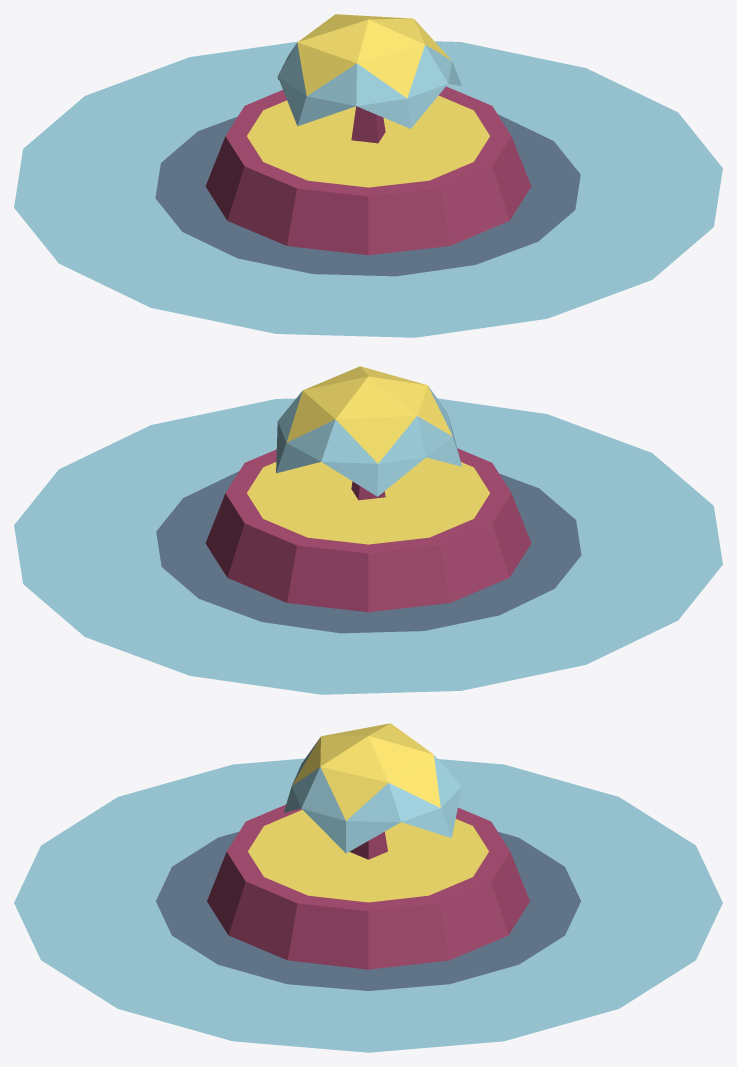
The model's file is Fountain.fbx.
The picture shows the model from 3 angles, top to bottom: view 1: azimuth 30°, elevation 25°; view 2: azimuth 150°, elevation 25°; view 3: azimuth 270°, elevation 25°; orthographic projection.
Parts seen in each view (by area): view 1: Outer Ripple, Base.001, Inner Ripple, Waterspout, Pillar; view 2: Outer Ripple, Base.001, Inner Ripple, Waterspout; view 3: Outer Ripple, Base.001, Inner Ripple, Waterspout, Pillar.
Boxes of the visible parts, x1=… form: Outer Ripple: x1=14, y1=41, x2=722, y2=337; Base.001: x1=205, y1=86, x2=531, y2=255; Inner Ripple: x1=155, y1=114, x2=580, y2=276; Waterspout: x1=277, y1=14, x2=461, y2=128; Pillar: x1=351, y1=106, x2=385, y2=143; Outer Ripple: x1=14, y1=398, x2=722, y2=694; Base.001: x1=205, y1=448, x2=531, y2=612; Inner Ripple: x1=156, y1=471, x2=581, y2=633; Waterspout: x1=276, y1=366, x2=461, y2=496; Outer Ripple: x1=14, y1=758, x2=722, y2=1052; Base.001: x1=207, y1=804, x2=529, y2=969; Inner Ripple: x1=156, y1=832, x2=580, y2=990; Waterspout: x1=284, y1=723, x2=461, y2=853; Pillar: x1=349, y1=832, x2=387, y2=859.
Bounding box in the file's own units: 5000 × 1300 × 5000.
